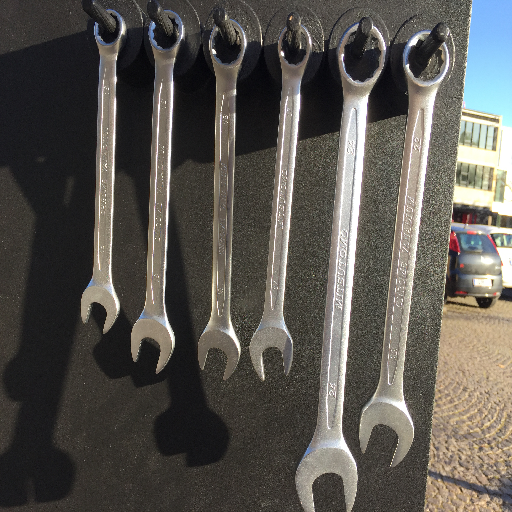bottom: (293, 438, 360, 512), (356, 395, 417, 469), (248, 319, 296, 384), (128, 316, 177, 376), (195, 321, 242, 383), (77, 279, 122, 337)
top: (333, 21, 389, 93), (399, 25, 454, 90), (206, 16, 249, 73), (274, 21, 316, 72), (145, 8, 188, 57), (89, 7, 130, 55)
